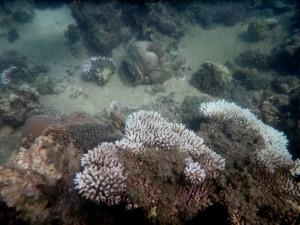bleached_corals: (70, 94, 235, 225), (0, 125, 80, 224), (0, 51, 55, 128), (116, 37, 173, 91), (77, 48, 118, 90), (189, 59, 233, 97)
